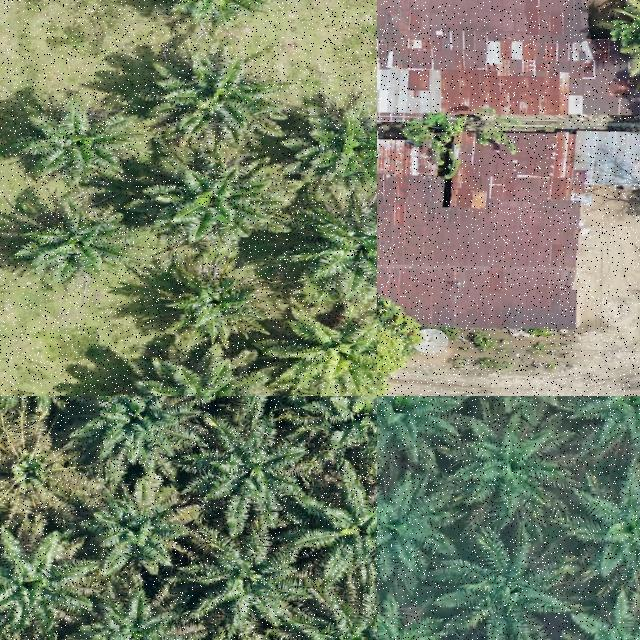Ganoderma: (290, 322, 377, 386), (0, 443, 65, 503)
